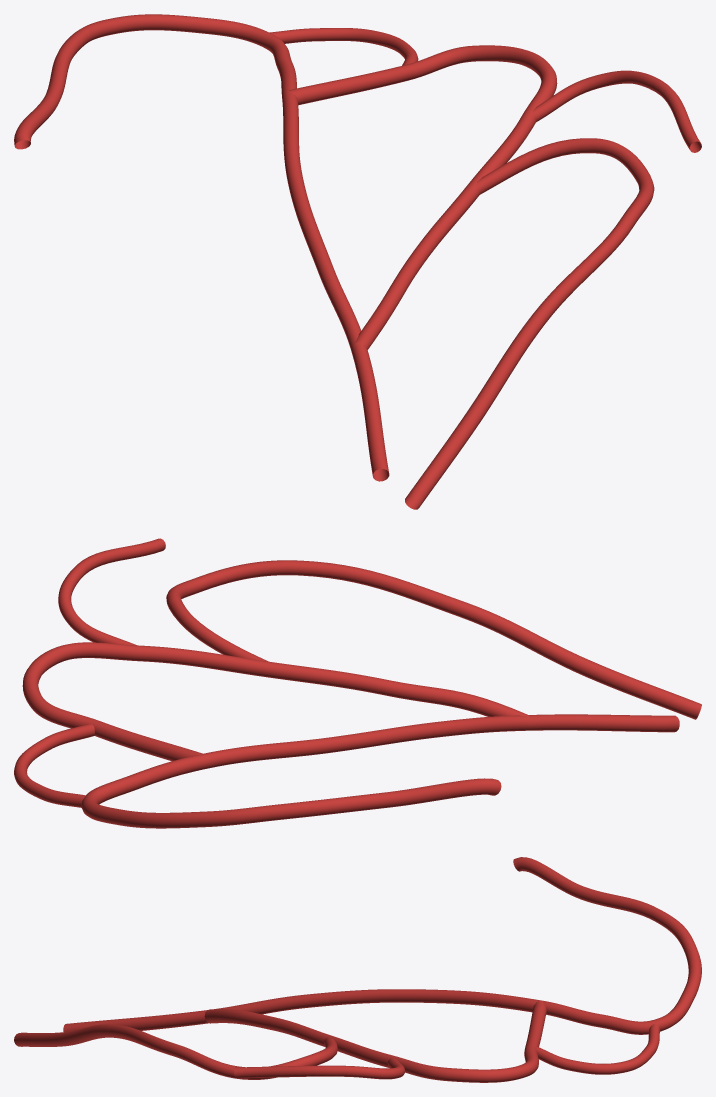
3 renders of one model, top to bottom at view 1: azimuth 30°, elevation 25°; view 2: azimuth 150°, elevation 25°; view 3: azimuth 270°, elevation 25°, orthographic. The views are drawn at different scales.
Parts seen in each view (by area): view 1: 乙状结肠动脉; view 2: 乙状结肠动脉; view 3: 乙状结肠动脉.
Boxes of the visible parts, x1,y1,x2,y2 form: 乙状结肠动脉: (14,14,701,509); 乙状结肠动脉: (14,538,701,828); 乙状结肠动脉: (14,857,701,1082).
Bounding box in the file's own units: 0.0973 × 0.0323 × 0.1286.
